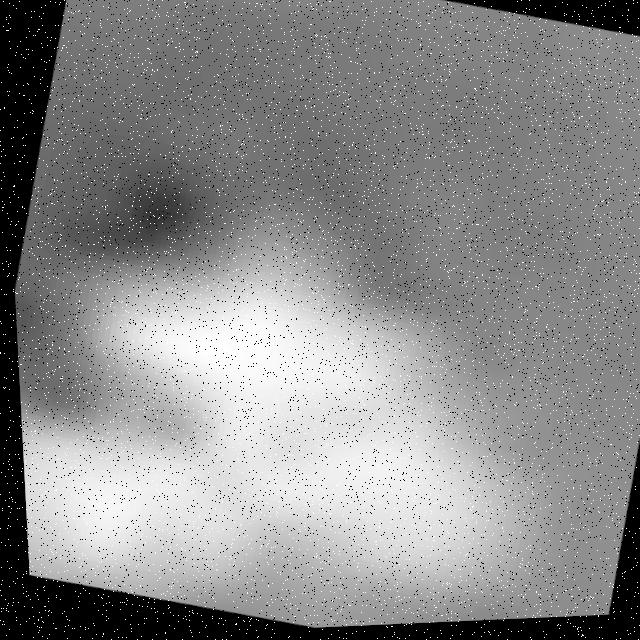person: (11, 217, 563, 640)
